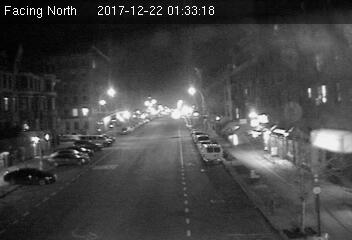truck: (202, 143, 223, 162)
